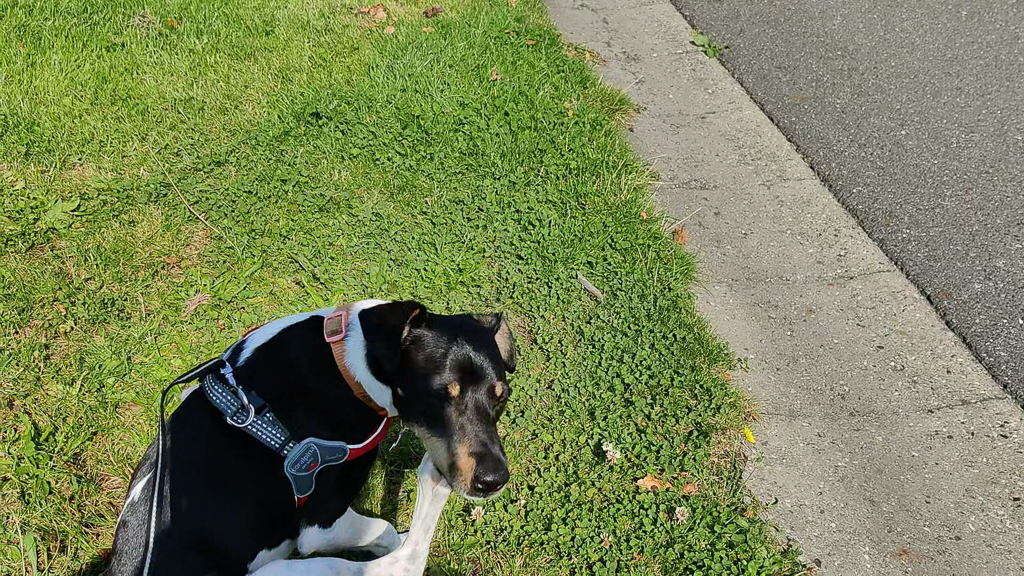Dog: (79, 277, 542, 576)
